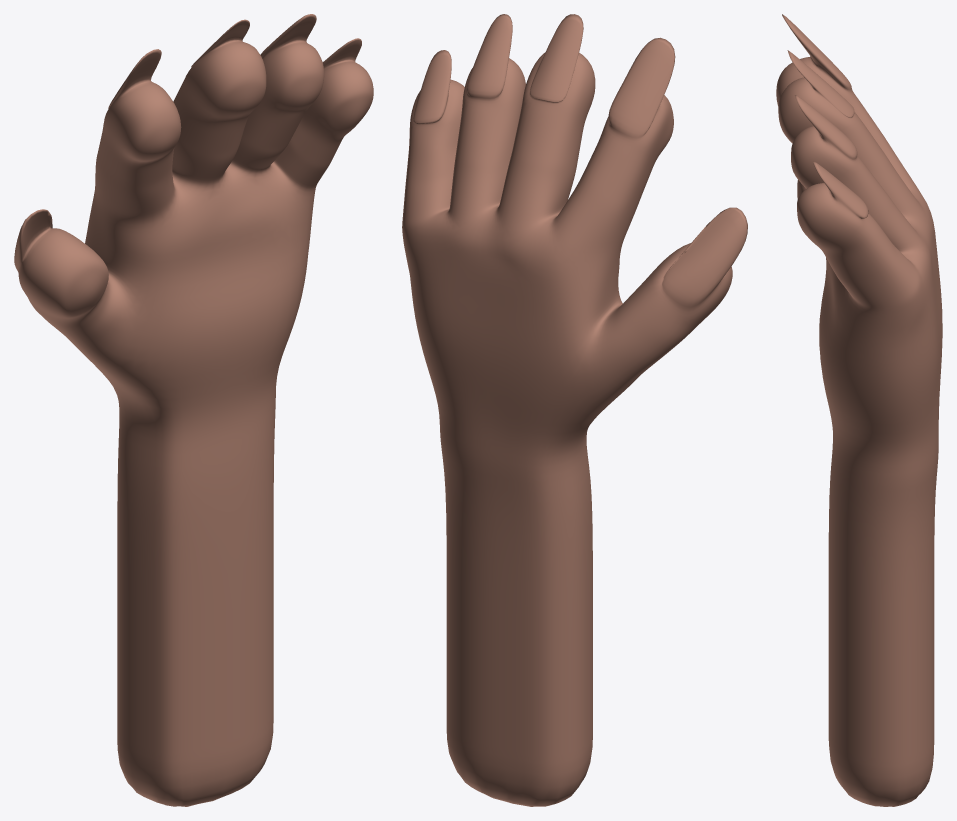
The model's file is Furry Paw.fbx.
The picture shows the model from 3 angles, left to right: view 1: azimuth 30°, elevation 25°; view 2: azimuth 150°, elevation 25°; view 3: azimuth 270°, elevation 25°; orthographic projection. The views are drawn at different scales.
Visible parts, largest first — view 1: Mano; view 2: Mano; view 3: Mano.
Part boxes in pixels (x1,y1,x2,y2): Mano: (14,14,373,806); Mano: (402,14,747,806); Mano: (776,14,942,806).
Bounding box in the file's own units: 78.14 × 173 × 35.04.
